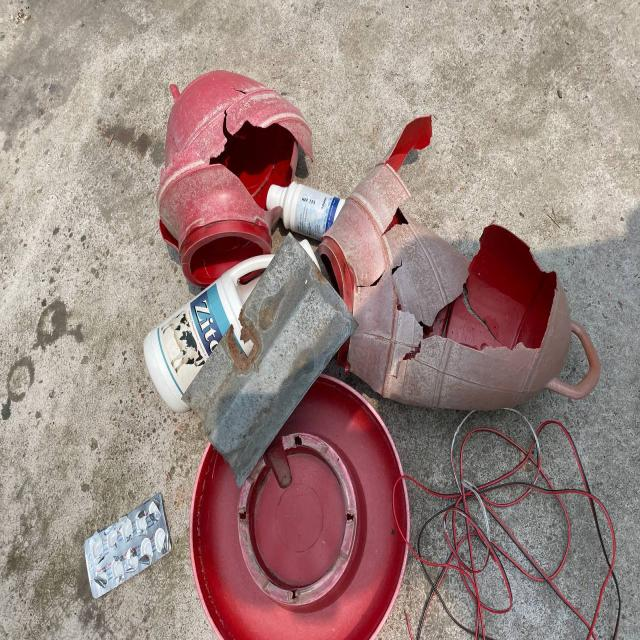Cable: (407, 400, 640, 640)
Medical Waste: (75, 483, 177, 602)
Metal: (184, 230, 358, 471)
Plastics: (360, 174, 626, 402), (129, 65, 461, 237), (184, 463, 403, 640)
